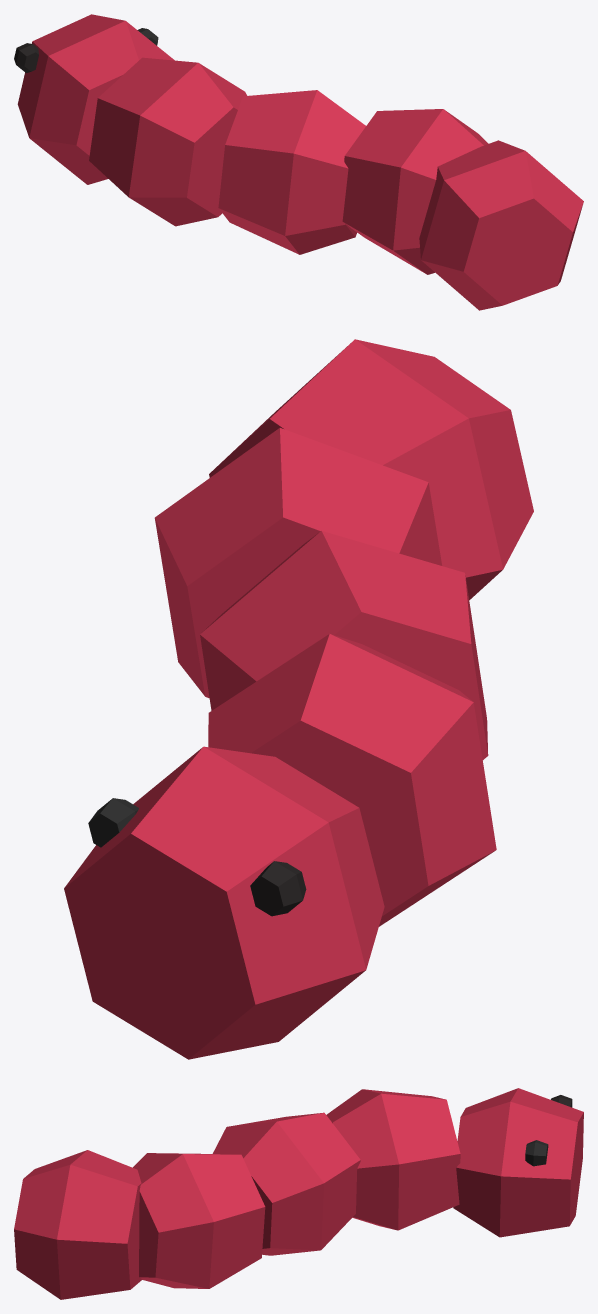
File: bug.fbx
3 views of the same model, one above another, from view 1: azimuth 30°, elevation 25°; view 2: azimuth 150°, elevation 25°; view 3: azimuth 270°, elevation 25° (orthographic). The views are drawn at different scales.
Visible parts, largest first — view 1: Cylinder.004, Cylinder.001, Cylinder.002, Cylinder.003, Cylinder, Cylinder.006; view 2: Cylinder, Cylinder.001, Cylinder.004, Cylinder.003, Cylinder.002, Cylinder.006, Cylinder.005; view 3: Cylinder.004, Cylinder, Cylinder.003, Cylinder.001, Cylinder.002, Cylinder.005.
Boxes of the visible parts, x1=… form: Cylinder.004: x1=419, y1=140, x2=583, y2=310; Cylinder.001: x1=89, y1=57, x2=247, y2=226; Cylinder.002: x1=218, y1=90, x2=365, y2=254; Cylinder.003: x1=342, y1=109, x2=488, y2=274; Cylinder: x1=17, y1=14, x2=174, y2=184; Cylinder.006: x1=14, y1=43, x2=38, y2=72; Cylinder: x1=64, y1=746, x2=384, y2=1059; Cylinder.001: x1=208, y1=634, x2=496, y2=926; Cylinder.004: x1=209, y1=339, x2=533, y2=599; Cylinder.003: x1=154, y1=428, x2=442, y2=698; Cylinder.002: x1=200, y1=530, x2=488, y2=759; Cylinder.006: x1=250, y1=861, x2=306, y2=916; Cylinder.005: x1=88, y1=798, x2=138, y2=847; Cylinder.004: x1=14, y1=1150, x2=142, y2=1299; Cylinder: x1=453, y1=1088, x2=583, y2=1237; Cylinder.003: x1=133, y1=1153, x2=265, y2=1288; Cylinder.001: x1=326, y1=1089, x2=460, y2=1230; Cylinder.002: x1=212, y1=1112, x2=360, y2=1255; Cylinder.005: x1=525, y1=1140, x2=548, y2=1166.
Bounding box in the file's own units: 398 × 205 × 713.
